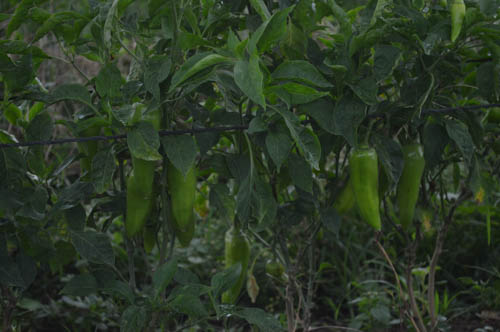ChiliPepper: (121, 104, 160, 246), (398, 144, 428, 230), (218, 235, 254, 304), (351, 149, 382, 224), (166, 165, 192, 223), (328, 174, 354, 218)
